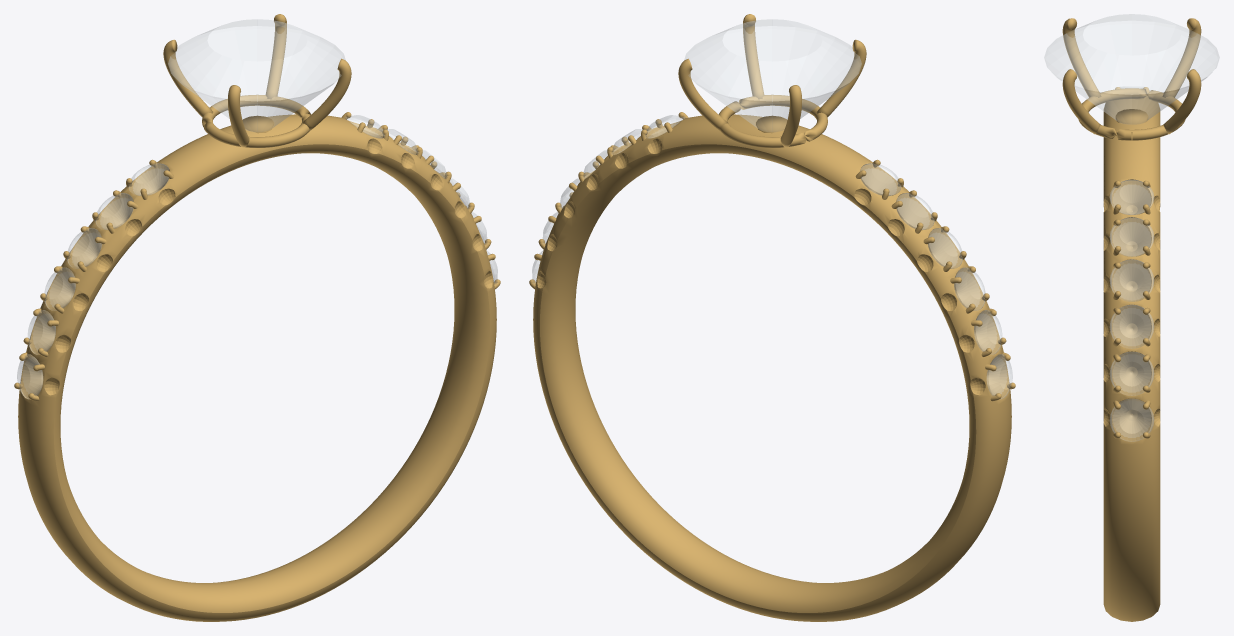
Rendered from accents-scalloped-u-cut.glb.
3 views of the same model, side by side, from view 1: azimuth 30°, elevation 25°; view 2: azimuth 150°, elevation 25°; view 3: azimuth 270°, elevation 25° (orthographic).
Parts seen in each view (by area): view 1: Band, Gem, Lower gallery, Prong.001, Prong, Prong.003, Gem.003, Gem.004, Gem.002, Gem.001, Gem.005, Gem.006 (+1 smaller); view 2: Band, Gem, Lower gallery, Prong.002, Prong.003, Prong, Gem.003, Gem.004, Gem.002, Gem.001, Gem.005, Gem.006 (+1 smaller); view 3: Band, Gem, Lower gallery, Gem.011, Gem.010, Gem.012, Gem.009, Gem.008, Gem.007, Prong.001, Prong.002, Prong (+2 smaller).
Boxes of the visible parts, left/top/right/bottom form: Band: left=18, top=114, right=496, bottom=621; Gem: left=168, top=19, right=345, bottom=131; Lower gallery: left=202, top=94, right=310, bottom=147; Prong.001: left=163, top=39, right=213, bottom=117; Prong: left=265, top=14, right=286, bottom=99; Prong.003: left=301, top=58, right=351, bottom=131; Gem.003: left=67, top=228, right=101, bottom=268; Gem.004: left=44, top=268, right=75, bottom=310; Gem.002: left=95, top=193, right=133, bottom=229; Gem.001: left=128, top=163, right=169, bottom=195; Gem.005: left=28, top=310, right=55, bottom=354; Gem.006: left=17, top=354, right=42, bottom=398; Band: left=533, top=114, right=1011, bottom=621; Gem: left=684, top=19, right=861, bottom=131; Lower gallery: left=719, top=94, right=827, bottom=147; Prong.002: left=816, top=39, right=866, bottom=117; Prong.003: left=743, top=14, right=764, bottom=99; Prong: left=678, top=58, right=728, bottom=131; Gem.003: left=928, top=228, right=962, bottom=268; Gem.004: left=954, top=268, right=985, bottom=310; Gem.002: left=896, top=193, right=934, bottom=229; Gem.001: left=860, top=163, right=901, bottom=195; Gem.005: left=974, top=310, right=1001, bottom=354; Gem.006: left=987, top=354, right=1012, bottom=398; Band: left=1103, top=96, right=1160, bottom=621; Gem: left=1044, top=14, right=1219, bottom=124; Lower gallery: left=1078, top=88, right=1185, bottom=140; Gem.011: left=1110, top=352, right=1153, bottom=395; Gem.010: left=1110, top=305, right=1153, bottom=348; Gem.012: left=1110, top=399, right=1153, bottom=441; Gem.009: left=1110, top=259, right=1153, bottom=301; Gem.008: left=1110, top=217, right=1153, bottom=256; Gem.007: left=1110, top=180, right=1153, bottom=214; Prong.001: left=1162, top=18, right=1201, bottom=97; Prong.002: left=1062, top=18, right=1101, bottom=97; Prong: left=1163, top=69, right=1201, bottom=134.
Size of the model in its own units: 19.79 by 22.94 by 6.5.
